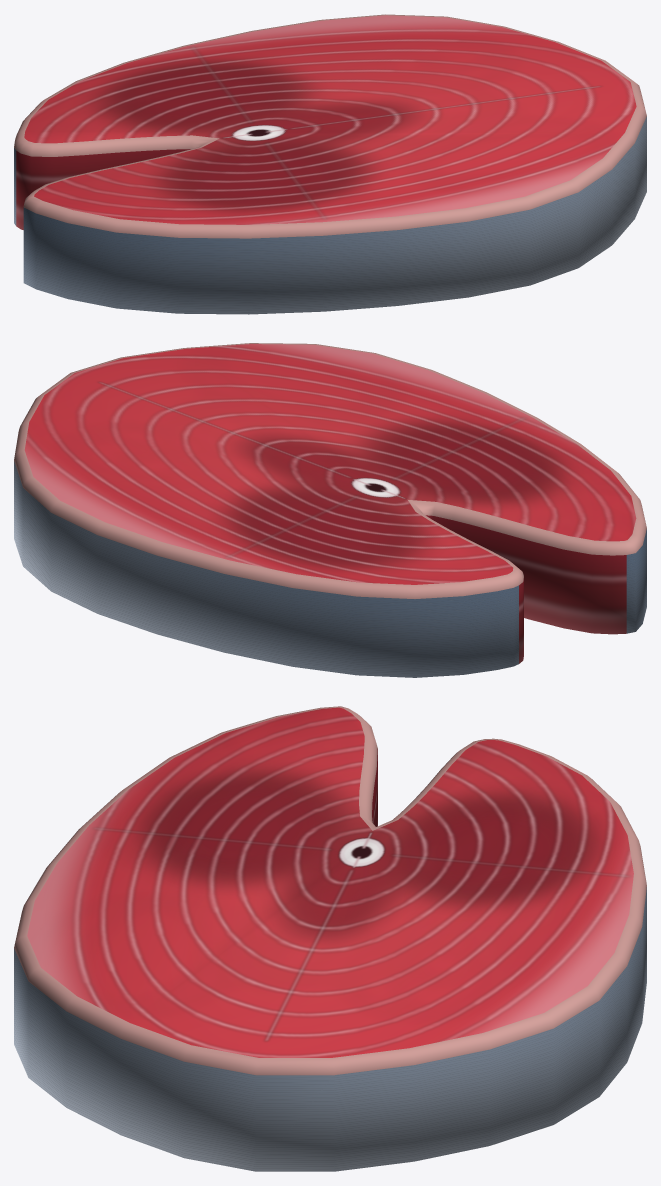
Rendered from Tuna_Steak.glb.
3 renders of one model, top to bottom at view 1: azimuth 30°, elevation 25°; view 2: azimuth 150°, elevation 25°; view 3: azimuth 270°, elevation 25°, orthographic. The views are drawn at different scales.
Parts seen in each view (by area): view 1: Tuna_Steak; view 2: Tuna_Steak; view 3: Tuna_Steak.
Boxes of the visible parts, x1,y1,x2,y2 form: Tuna_Steak: [14, 14, 646, 314]; Tuna_Steak: [14, 343, 646, 677]; Tuna_Steak: [14, 706, 646, 1171].
Bounding box in the file's own units: 0.3938 × 0.055 × 0.2913.
Materials: 3 (2 with a texture image).
